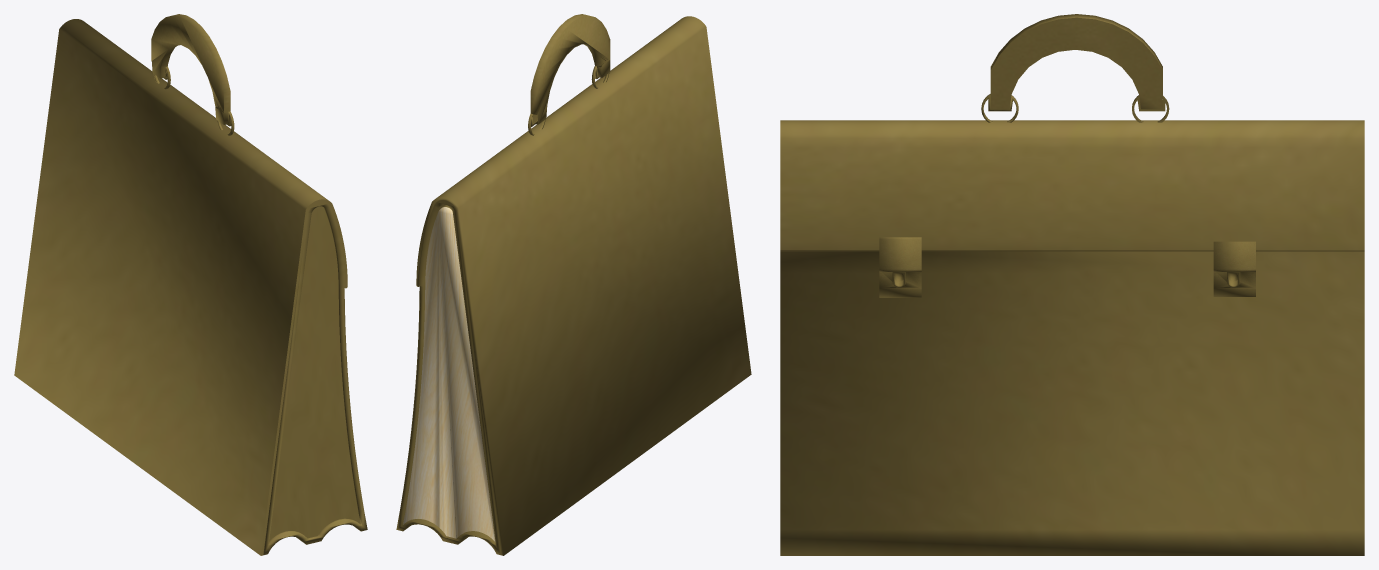
Rendered from LBSR_Briefcase_leather.fbx.
3 renders of one model, left to right at view 1: azimuth 30°, elevation 25°; view 2: azimuth 150°, elevation 25°; view 3: azimuth 270°, elevation 25°, orthographic. The views are drawn at different scales.
Parts seen in each view (by area): view 1: briefcase, handle; view 2: briefcase, handle; view 3: briefcase, handle, lock, lock.001.
Boxes of the visible parts, x1=… form: briefcase: x1=14, y1=19, x2=367, y2=555; handle: x1=151, y1=14, x2=234, y2=135; briefcase: x1=396, y1=16, x2=751, y2=555; handle: x1=528, y1=14, x2=610, y2=135; briefcase: x1=780, y1=120, x2=1364, y2=555; handle: x1=981, y1=14, x2=1169, y2=122; lock: x1=879, y1=237, x2=921, y2=297; lock.001: x1=1213, y1=241, x2=1255, y2=296.
Size of the model in its own units: 0.3458 by 1.33 by 1.38.
